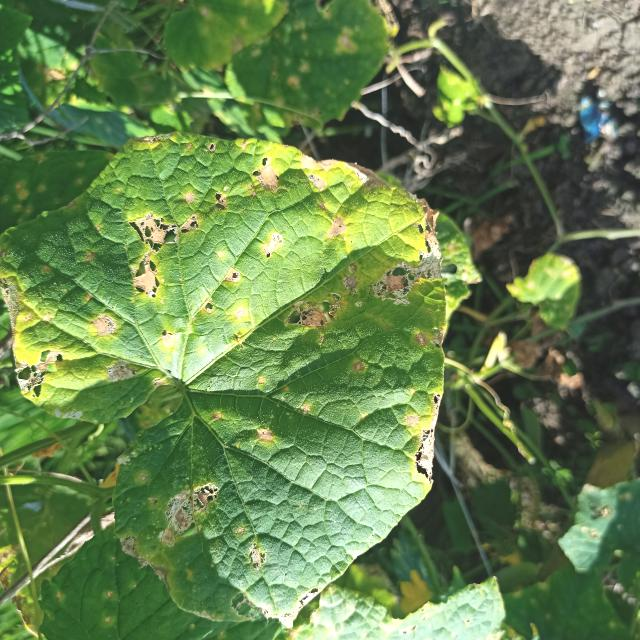disease_cucumber: (18, 137, 444, 627)
